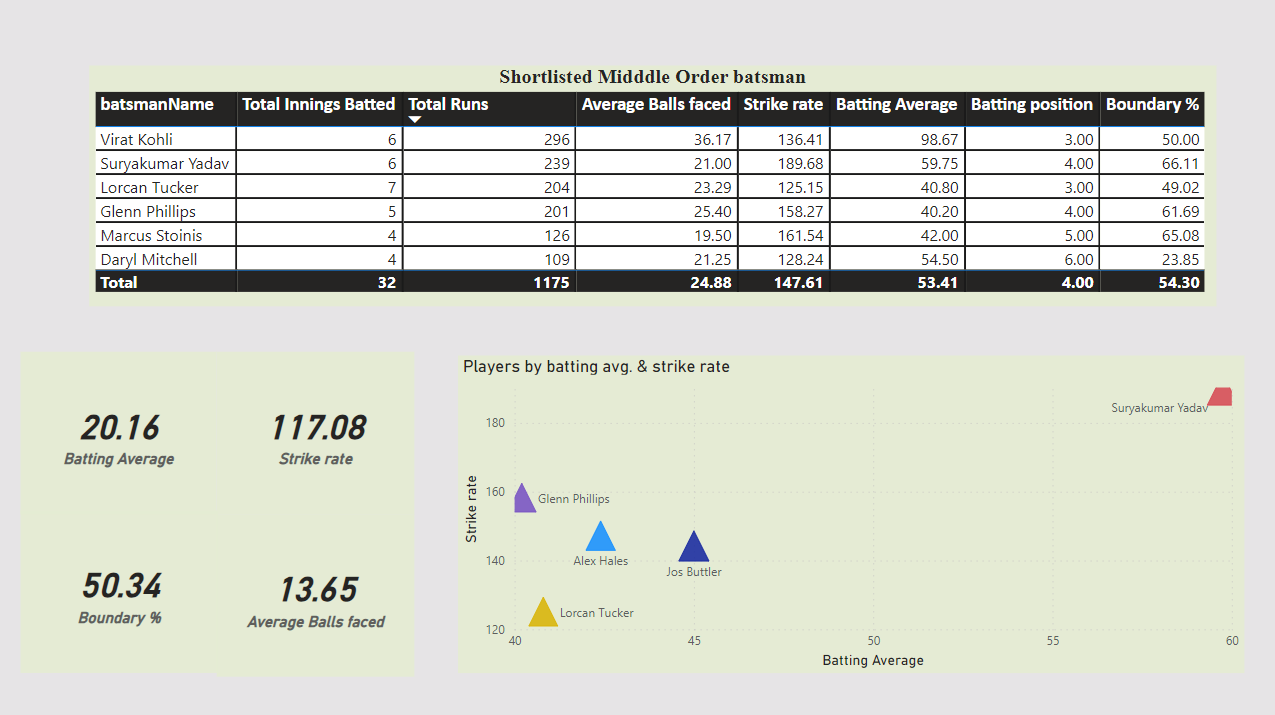

Layout of this report page (visuals, bound fields, positions):
{"tool":"powerbi","page":{"name":"Middle order","canvas":[1280,720],"ordinal":1},"visuals":[{"type":"tableEx","title":"Shortlisted Midddle Order batsman","fields":{"Values":["a_batting_summary.batsmanName","Key_Measure.Total Innings Batted","Key_Measure.Total Runs","Key_Measure.Average Balls faced","Key_Measure.Strike rate","Key_Measure.Batting Average","Key_Measure.Batting position","Key_Measure.Boundary %"]},"box":[91.7,67.2,1127.1,240.8],"z":0},{"type":"card","fields":{"Values":["Key_Measure.Batting Average"]},"box":[22.5,353.8,196.2,162.5],"z":1000},{"type":"card","fields":{"Values":["Key_Measure.Strike rate"]},"box":[218.8,353.8,197.5,162.5],"z":2000},{"type":"card","fields":{"Values":["Key_Measure.Average Balls faced"]},"box":[218.8,516.2,197.5,162.5],"z":3000},{"type":"scatterChart","title":"Players by batting avg. & strike rate","fields":{"X":["Key_Measure.Batting Average"],"Y":["Key_Measure.Strike rate"],"Category":["a_batting_summary.batsmanName"],"Size":["Key_Measure.Total Runs"]},"box":[459.6,356.9,786,317.8],"z":4000},{"type":"card","fields":{"Values":["Key_Measure.Boundary %"]},"box":[22.5,512.5,197.5,162.5],"z":5000}]}

Visuals, with their boxes in screenshot pixels (x1, y1, x2, y2), scaled from the page's 1280x720 canvas onto the 1275x715 screenshot:
"Shortlisted Midddle Order batsman" tableEx: bbox=[91, 67, 1214, 306]
card - Key_Measure.Batting Average: bbox=[22, 351, 218, 513]
card - Key_Measure.Strike rate: bbox=[218, 351, 415, 513]
card - Key_Measure.Average Balls faced: bbox=[218, 513, 415, 674]
"Players by batting avg. & strike rate" scatterChart: bbox=[458, 354, 1241, 670]
card - Key_Measure.Boundary %: bbox=[22, 509, 219, 670]
